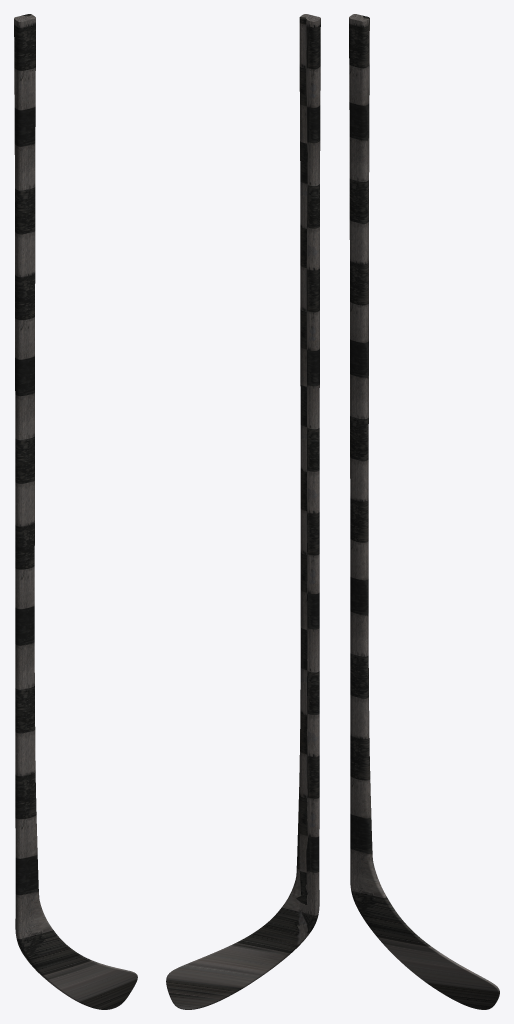
File: P105-SBO.glb
3 views of the same model, side by side, from view 1: azimuth 30°, elevation 25°; view 2: azimuth 150°, elevation 25°; view 3: azimuth 330°, elevation 25° (orthographic). The views are drawn at different scales.
Visible parts, largest first — view 1: geometry_0; view 2: geometry_0; view 3: geometry_0.
Boxes of the visible parts, box(x1,y1,x2,y2) form: geometry_0: box(14, 14, 137, 1009); geometry_0: box(166, 14, 320, 1009); geometry_0: box(349, 14, 499, 1009).
Bounding box in the file's own units: 233 × 1650 × 69.97.
Materials: 1 (1 with a texture image).
